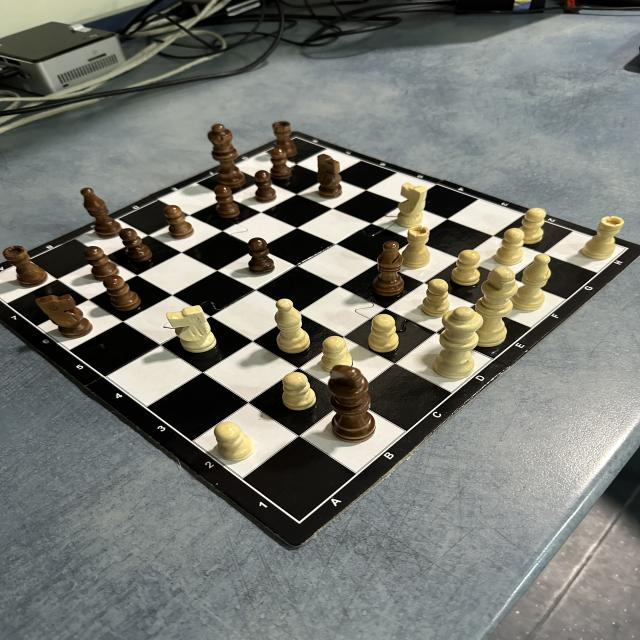Black-Bishop: (80, 187, 123, 239), (372, 240, 405, 297)
Black-King: (327, 365, 376, 443)
Black-Knight: (35, 294, 93, 339), (316, 154, 343, 199)
Black-Pawn: (102, 275, 142, 312), (84, 246, 119, 281), (119, 228, 153, 262), (163, 205, 195, 239), (248, 237, 275, 275), (213, 185, 240, 219), (254, 170, 277, 203), (270, 147, 292, 180)
Black-Queen: (207, 124, 247, 190)
Black-Rook: (2, 246, 48, 287), (272, 122, 298, 158)
White-Bishop: (273, 298, 310, 354), (516, 254, 552, 311)
White-King: (475, 266, 518, 348)
White-Knight: (166, 305, 217, 354), (397, 182, 428, 228)
White-Pawn: (214, 421, 253, 461), (281, 372, 317, 412), (368, 314, 400, 353), (450, 249, 481, 286), (421, 278, 450, 317), (321, 336, 352, 372), (495, 228, 524, 266), (519, 207, 546, 245)
White-Queen: (434, 307, 484, 380)
White-Rook: (581, 216, 625, 260), (401, 225, 431, 268)
